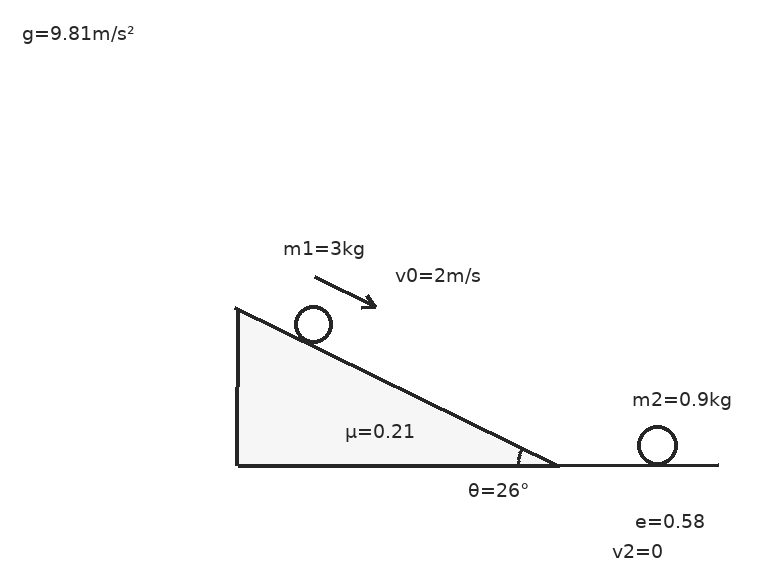ball: (635, 423, 679, 467), (292, 303, 334, 345)
ramp: (234, 306, 560, 467)
